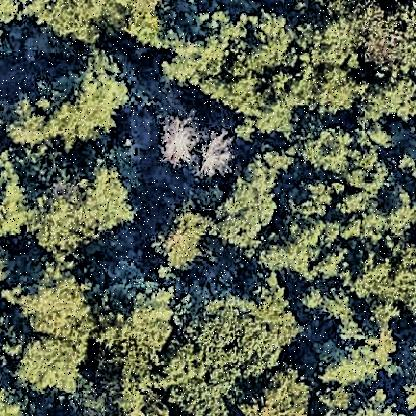tree-top: (188, 278, 304, 380), (32, 42, 137, 143), (26, 156, 134, 254), (169, 14, 262, 114), (94, 279, 184, 361), (14, 261, 104, 343), (344, 169, 416, 250), (315, 323, 401, 387), (20, 1, 128, 51), (11, 332, 92, 396), (215, 175, 283, 247), (152, 198, 216, 273), (254, 221, 327, 284), (235, 361, 318, 416), (242, 6, 302, 76), (161, 359, 230, 416), (355, 245, 416, 309), (287, 170, 343, 230), (100, 358, 156, 416), (350, 11, 406, 68), (306, 65, 362, 122), (302, 124, 360, 178), (300, 16, 362, 66), (356, 71, 413, 125), (2, 94, 56, 150), (1, 151, 35, 236), (255, 72, 299, 136), (125, 5, 181, 54), (154, 117, 196, 165), (199, 131, 237, 178), (297, 282, 323, 313)
